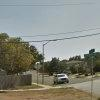Car: (50, 70, 72, 87)
